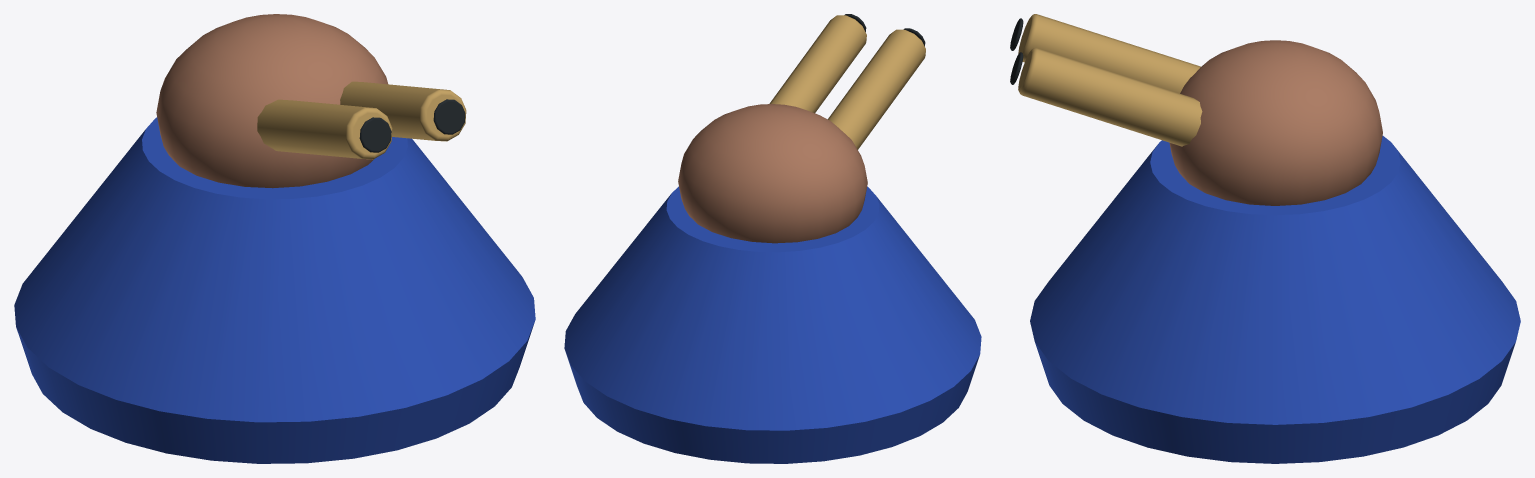
3 views of the same model, side by side, from view 1: azimuth 30°, elevation 25°; view 2: azimuth 150°, elevation 25°; view 3: azimuth 270°, elevation 25° (orthographic). The views are drawn at different scales.
Visible parts, largest first — view 1: Turret armoured pedestal, Weapon pivot, Weapon barrel, Weapon barrel.001, Weapon dark bore, Weapon dark bore.001; view 2: Turret armoured pedestal, Weapon pivot, Weapon barrel, Weapon barrel.001; view 3: Turret armoured pedestal, Weapon pivot, Weapon barrel.001, Weapon barrel.
Part boxes in pixels (left/top/right/bottom): Turret armoured pedestal: left=14, top=117, right=535, bottom=463; Weapon pivot: left=156, top=14, right=387, bottom=188; Weapon barrel: left=257, top=99, right=392, bottom=159; Weapon barrel.001: left=340, top=81, right=466, bottom=141; Weapon dark bore: left=359, top=117, right=391, bottom=152; Weapon dark bore.001: left=433, top=99, right=465, bottom=134; Turret armoured pedestal: left=564, top=186, right=981, bottom=463; Weapon pivot: left=678, top=104, right=867, bottom=243; Weapon barrel: left=827, top=29, right=925, bottom=149; Weapon barrel.001: left=769, top=15, right=866, bottom=113; Turret armoured pedestal: left=1030, top=136, right=1520, bottom=463; Weapon pivot: left=1169, top=40, right=1382, bottom=205; Weapon barrel.001: left=1018, top=48, right=1202, bottom=146; Weapon barrel: left=1018, top=14, right=1200, bottom=93.
Bounding box in the file's own units: 1.96 × 1.47 × 2.04.
